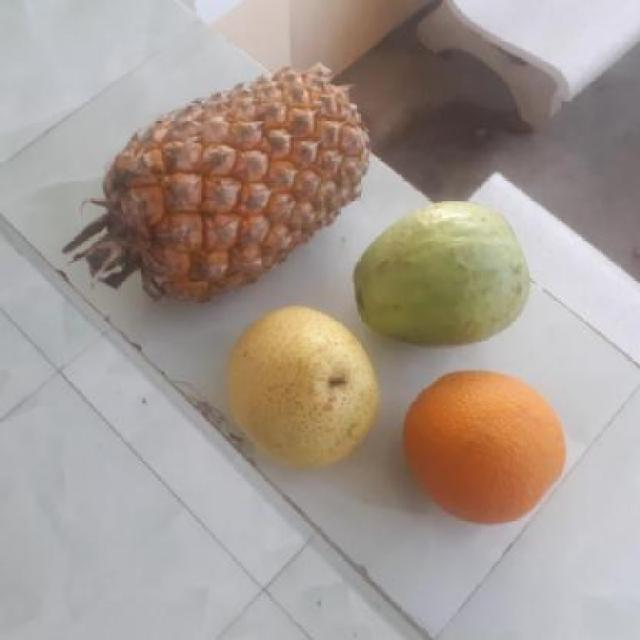guava: (351, 206, 526, 343)
oren: (393, 367, 565, 522)
pear: (220, 307, 383, 468)
pineapple: (95, 69, 358, 306)
